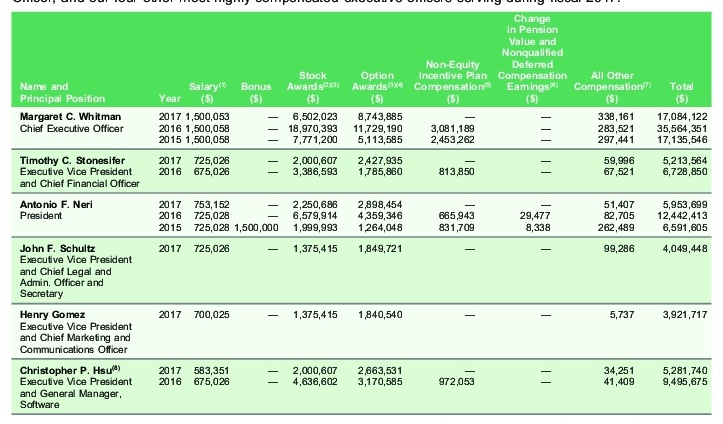table: (0, 0, 723, 424)
